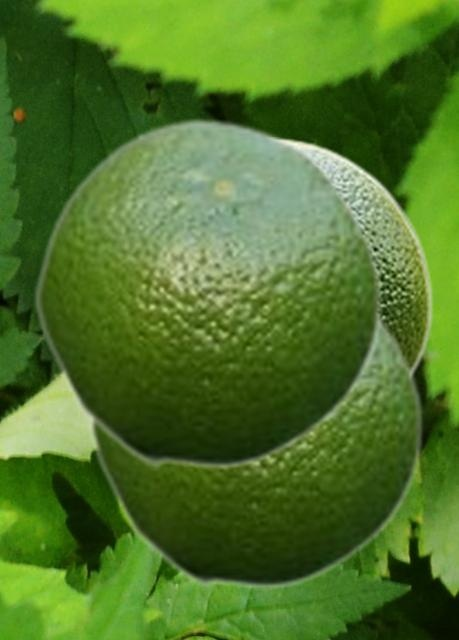calamansi: (32, 115, 383, 469), (87, 312, 424, 589), (286, 137, 432, 377)
